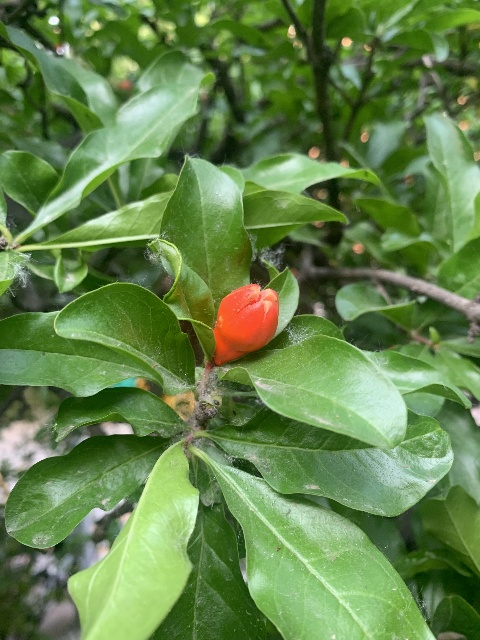bud: (212, 283, 279, 365)
